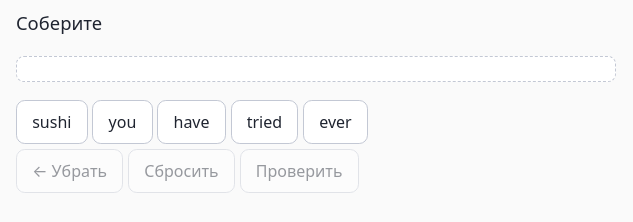
Test: WordOrder › lets the user undo the last word
Click the button "have".
click(192, 122)  # box top-left (157, 100), bottom-right (226, 144)
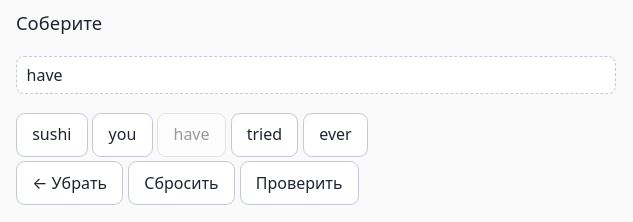
Click the button "you".
click(122, 135)  # box top-left (92, 113), bottom-right (152, 157)
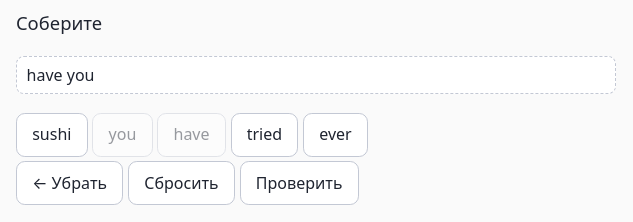
Click the button with aria-label "Убрать слово".
click(70, 184)  # box top-left (16, 162), bottom-right (123, 206)
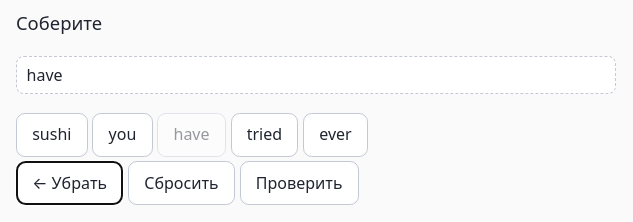
Expected: the text named "built" reads "have", top-left (27, 64), bottom-right (63, 86)
Expected: the button "you" is enabled, top-left (92, 113), bottom-right (152, 157)
